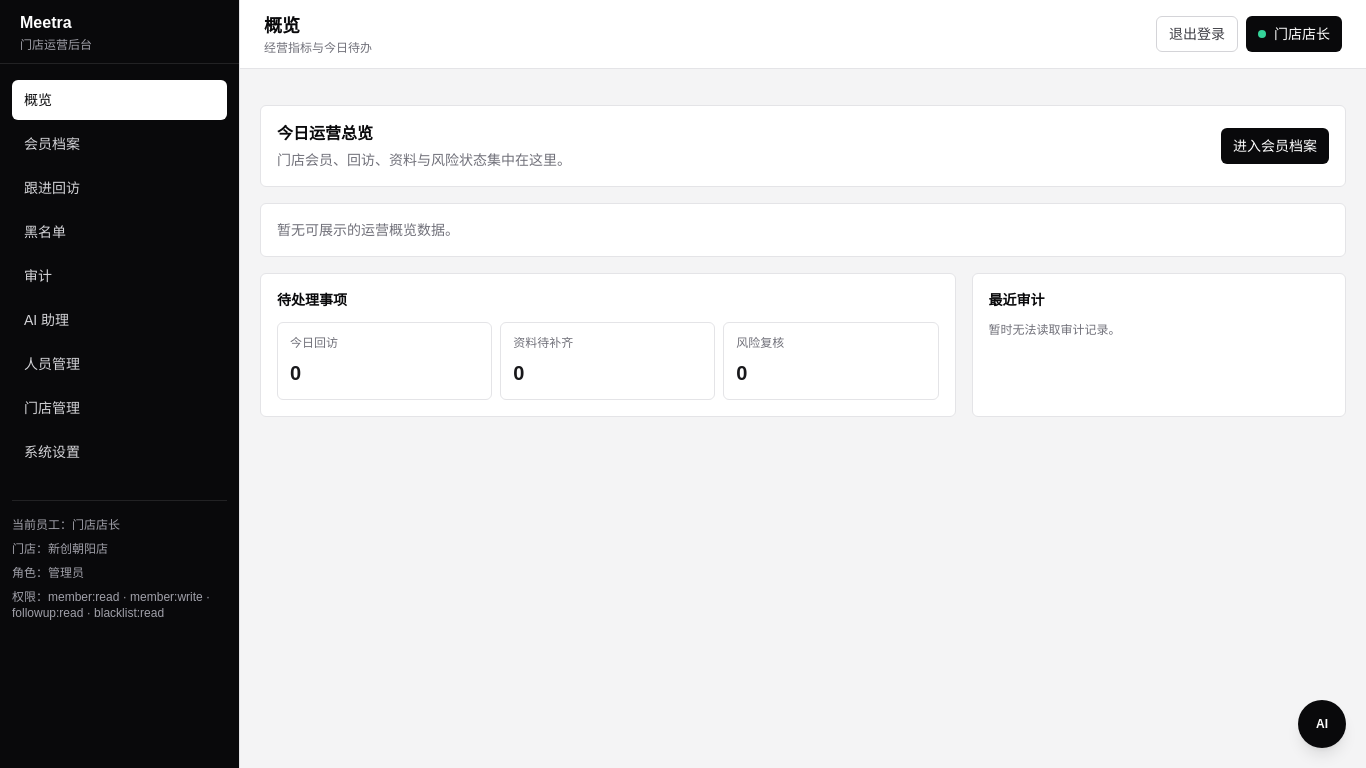
Test: 精简 V1 首页验收 › shows personnel, store, and system management to managers
Click the button "人员管理".
click(120, 364)  # box x1=12 y1=344 x2=227 y2=384
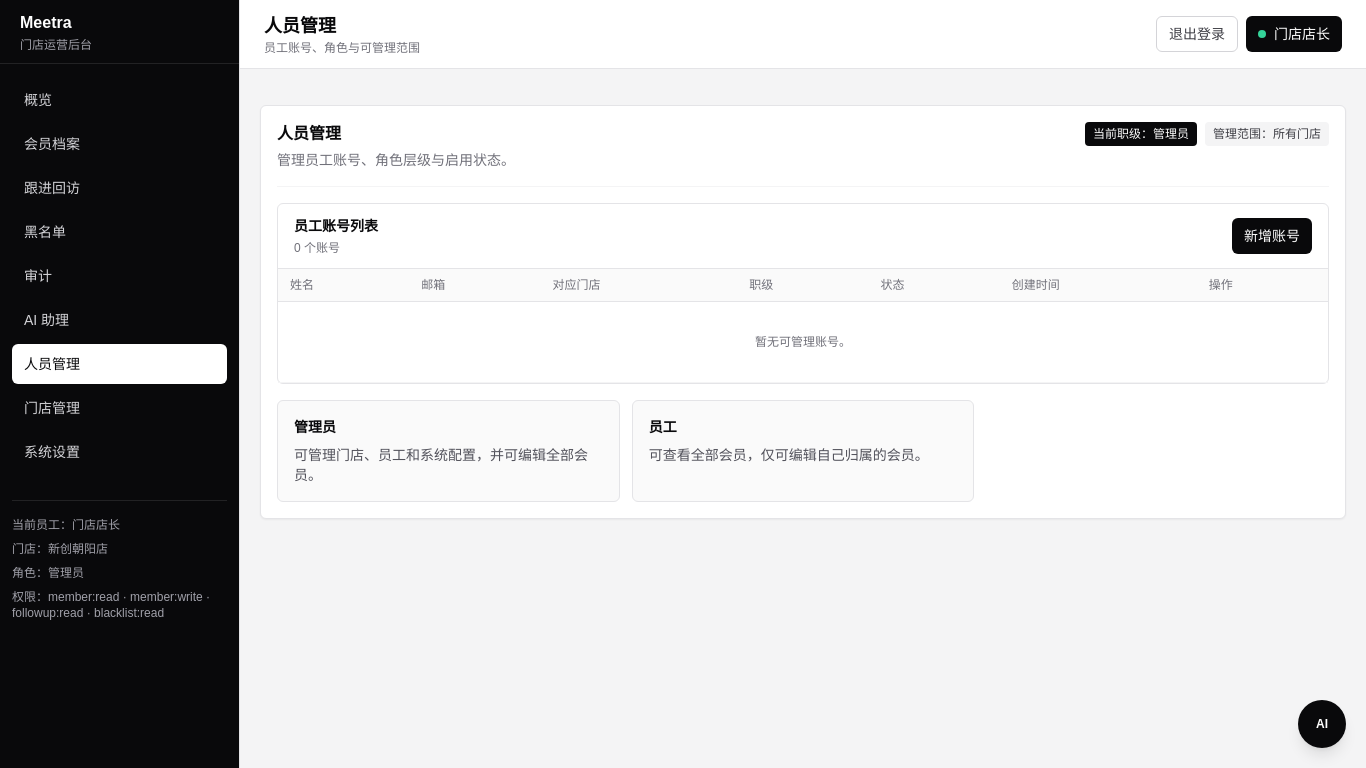
Expected: the 1st heading "人员管理" is shown, x1=264 y1=16 x2=336 y2=36
Expected: the text "当前职级：管理员" is shown, x1=1085 y1=122 x2=1197 y2=146
Expected: the text "管理范围：所有门店" is shown, x1=1205 y1=122 x2=1329 y2=146
